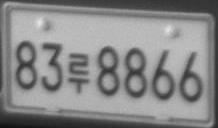3: (40, 41, 63, 92)
6: (178, 50, 204, 103), (151, 49, 175, 100)
8: (123, 46, 148, 99), (96, 44, 121, 96), (14, 40, 38, 90)
루: (67, 52, 90, 94)
